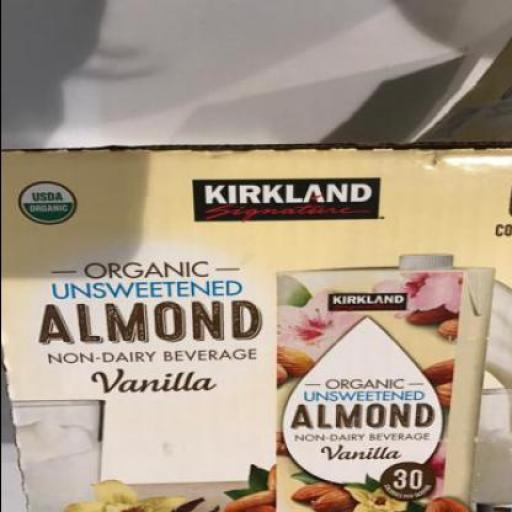cardboard: (1, 143, 511, 511), (1, 144, 511, 511), (411, 31, 511, 146), (410, 38, 511, 144)
